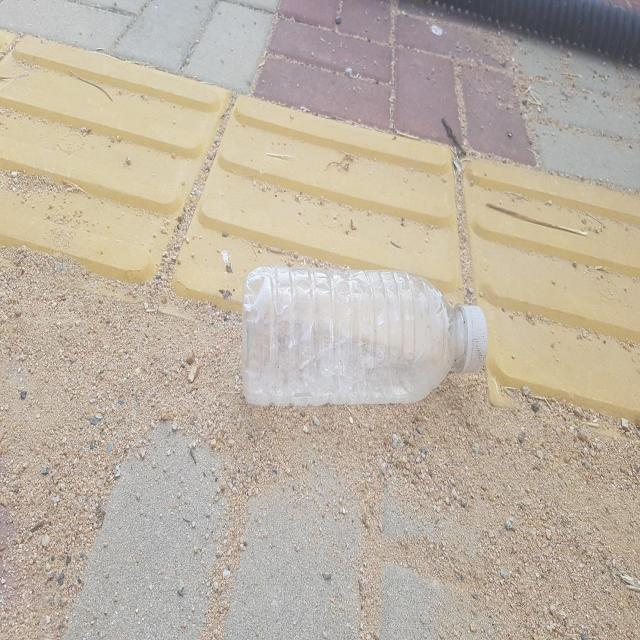plastic: (243, 265, 488, 405)
